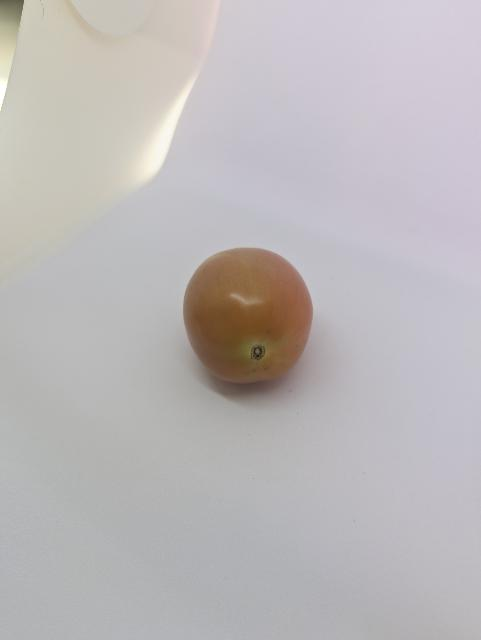turning: (178, 238, 323, 391)
